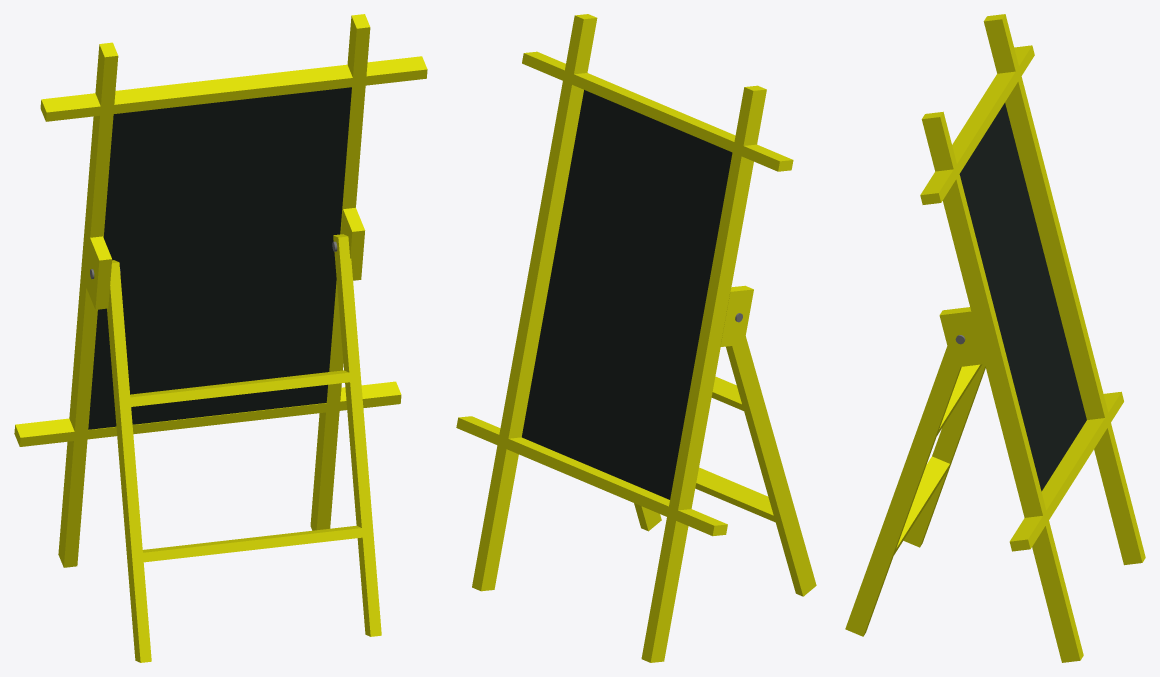
The model's file is menu.fbx.
The picture shows the model from 3 angles, left to right: view 1: azimuth 30°, elevation 25°; view 2: azimuth 150°, elevation 25°; view 3: azimuth 270°, elevation 25°; orthographic projection. The views are drawn at different scales.
Visible parts, largest first — view 1: pPlane2, pCube49, pCube50, pCube48, pCube52, pCube54, pCube51, pCube53, pCube55, pCube56, pCube57; view 2: pPlane2, pCube49, pCube48, pCube54, pCube50, pCube51, pCube53, pCube56, pCube55; view 3: pPlane2, pCube48, pCube49, pCube52, pCube50, pCube51, pCube54, pCube57, pCube53, pCube55.
Boxes of the visible parts, x1,y1,x2,y2 form: pPlane2: (88, 87, 351, 429); pCube49: (58, 42, 118, 567); pCube50: (40, 56, 427, 121); pCube48: (310, 14, 370, 530); pCube52: (333, 234, 381, 636); pCube54: (107, 260, 151, 662); pCube51: (14, 381, 401, 446); pCube53: (142, 525, 370, 562); pCube55: (121, 370, 358, 407); pCube56: (86, 236, 112, 309); pCube57: (341, 207, 365, 280); pPlane2: (522, 90, 732, 499); pCube49: (641, 85, 766, 662); pCube48: (472, 14, 597, 591); pCube54: (726, 336, 816, 596); pCube50: (522, 51, 793, 171); pCube51: (456, 416, 727, 536); pCube53: (695, 467, 780, 522); pCube56: (720, 285, 753, 346); pCube55: (711, 376, 746, 411); pPlane2: (959, 103, 1086, 491); pCube48: (921, 111, 1083, 662); pCube49: (983, 14, 1145, 565); pCube52: (845, 346, 961, 636); pCube50: (920, 45, 1034, 204); pCube51: (1009, 391, 1123, 551); pCube54: (903, 364, 985, 547); pCube57: (939, 307, 984, 367); pCube53: (894, 456, 951, 554); pCube55: (937, 364, 982, 435).
Size of the model in its own units: 46.86 by 72.74 by 37.15.
